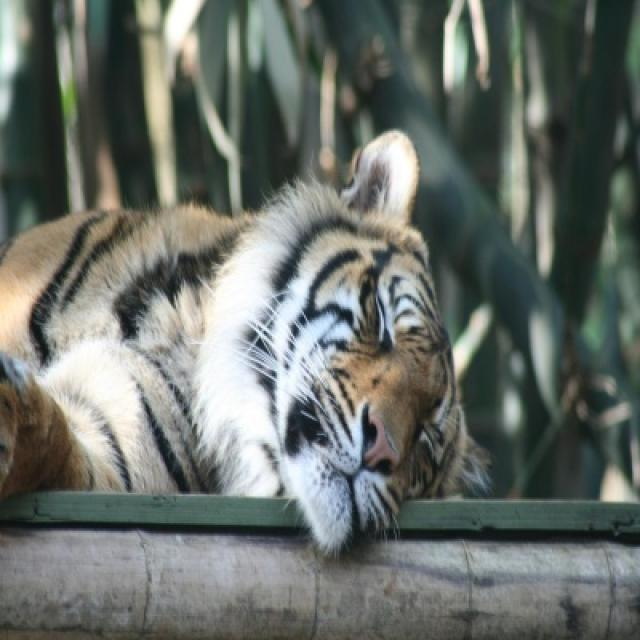Tiger: (0, 131, 486, 552)
